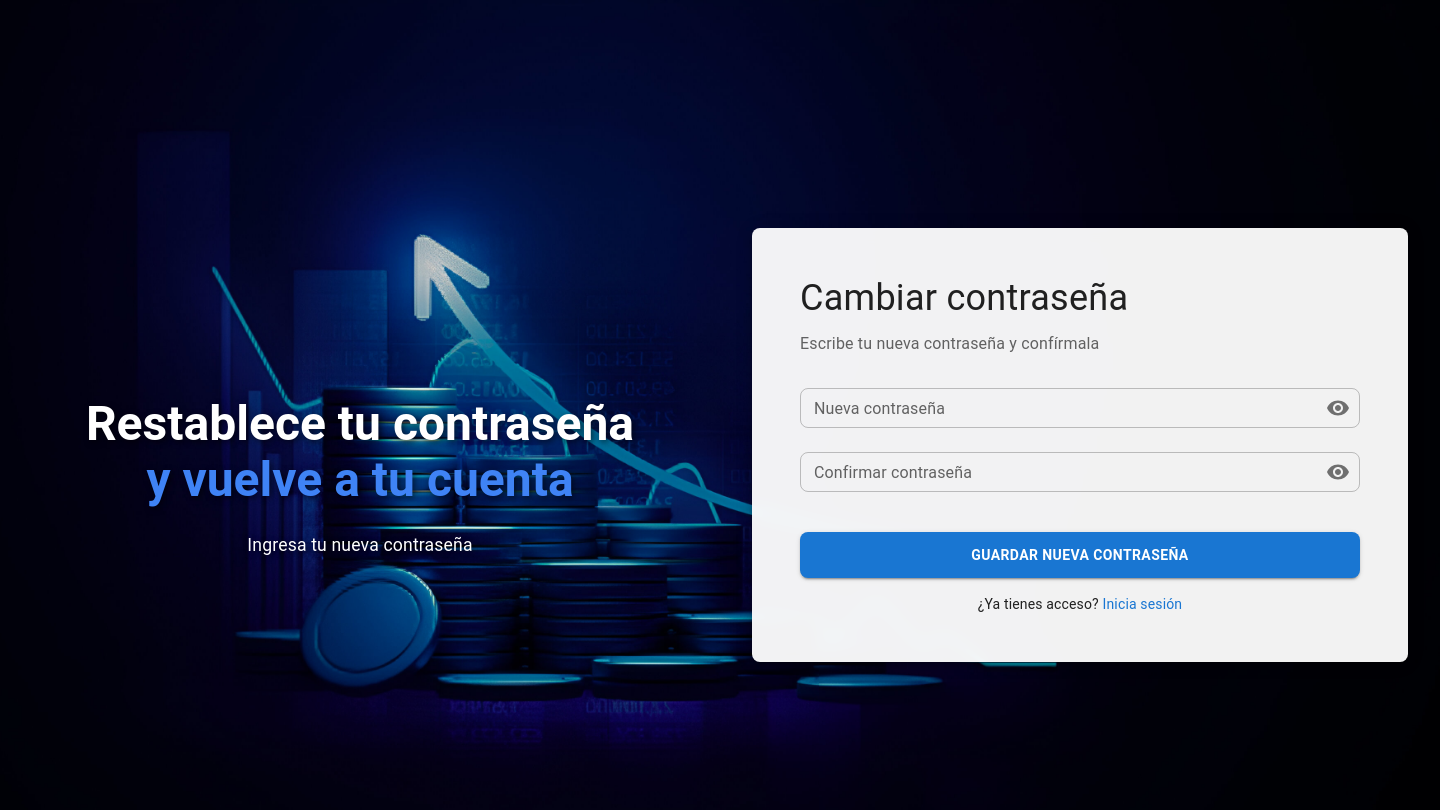
Test case: ResetPasswordForm › valida que las contrasenas coincidan antes de enviar
The image size is (1440, 810).
Type "abc123" into the password field labelled "Nueva contraseña" at {"x": 1055, "y": 408}, box [800, 388, 1310, 428]
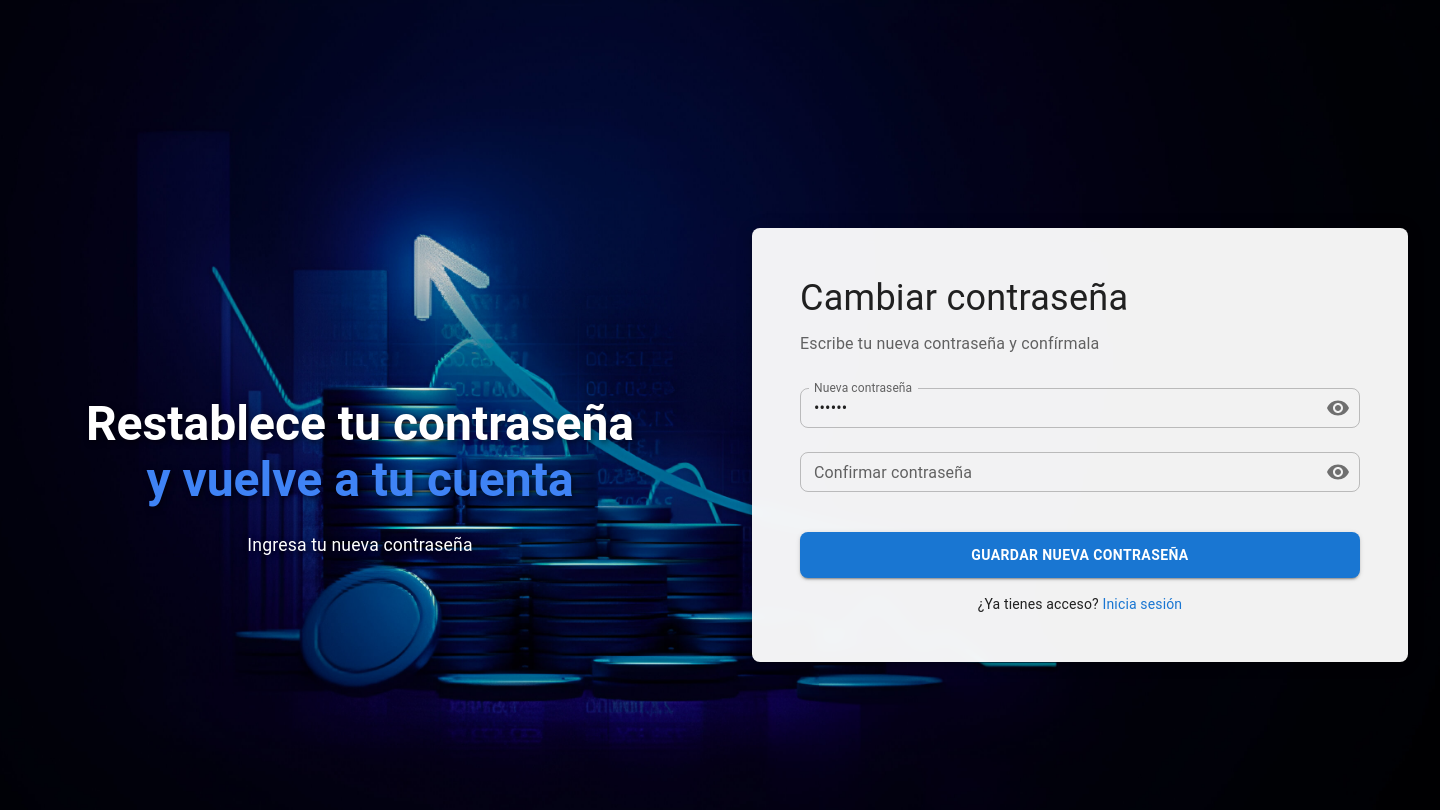
Type "xyz123" into the password field labelled "Confirmar contraseña" at {"x": 1055, "y": 472}, box [800, 452, 1310, 492]
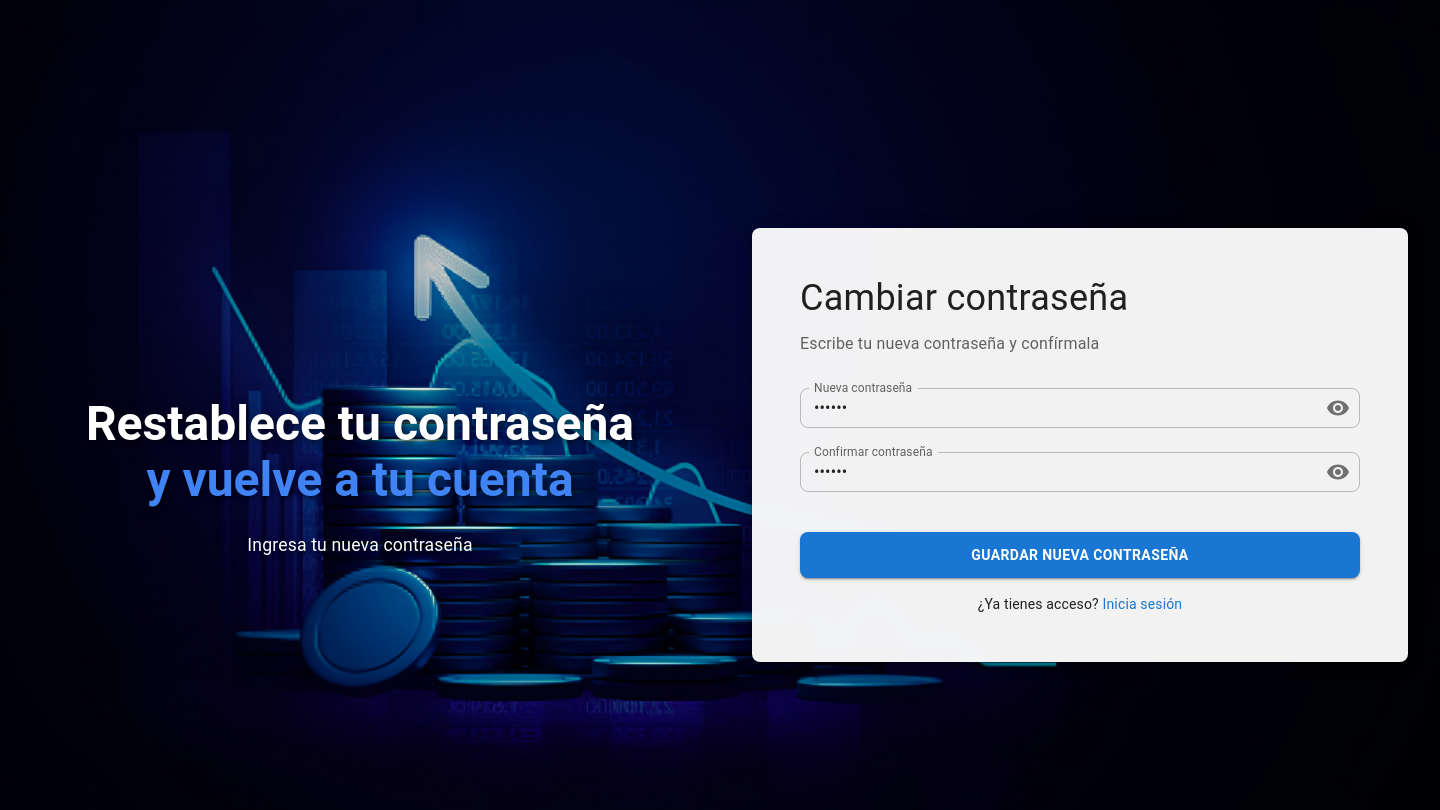
Click the button "Guardar nueva contraseña" at {"x": 1080, "y": 555}, box [800, 532, 1360, 578]
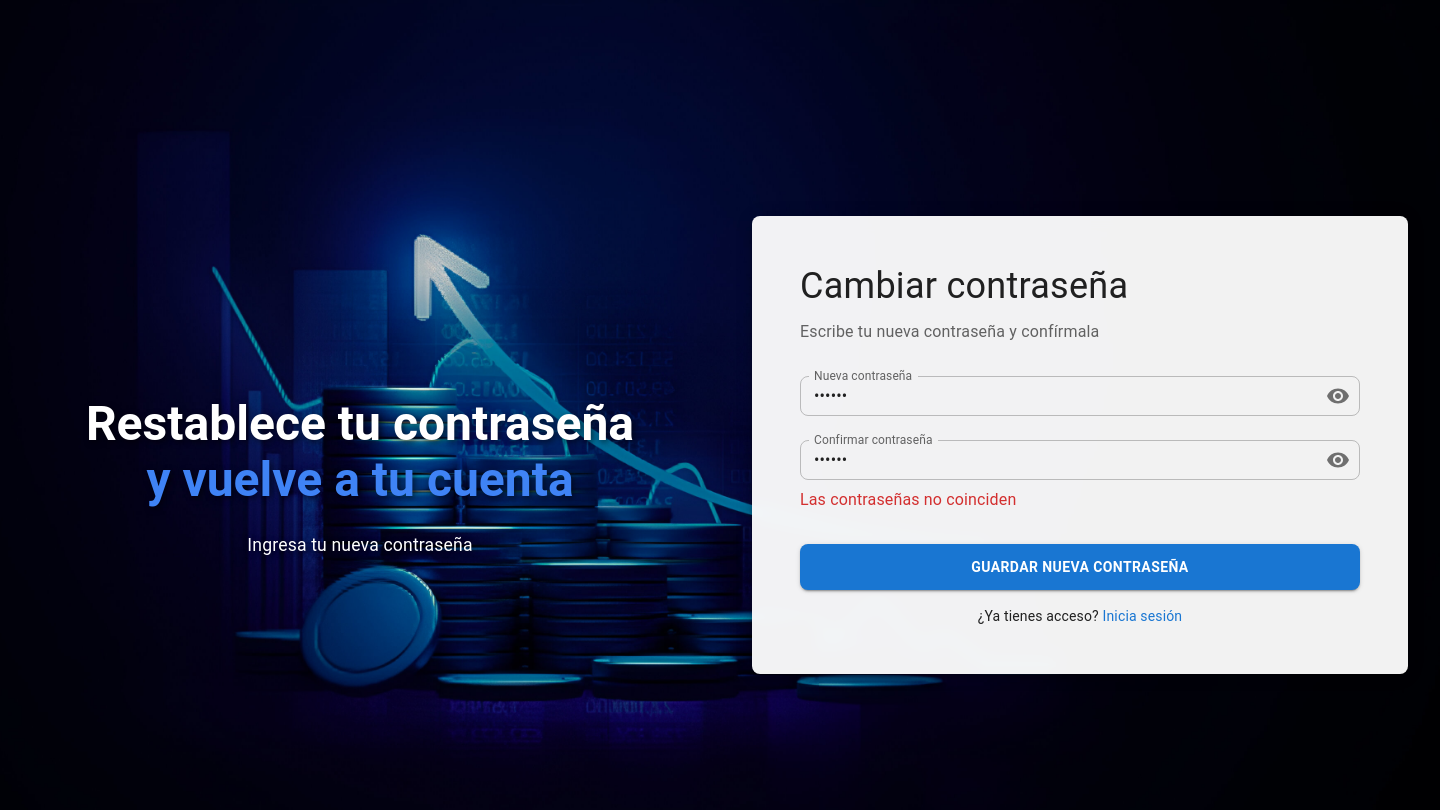
Result: the text "Las contraseñas no coinciden" is shown at [800, 490, 1016, 508]
